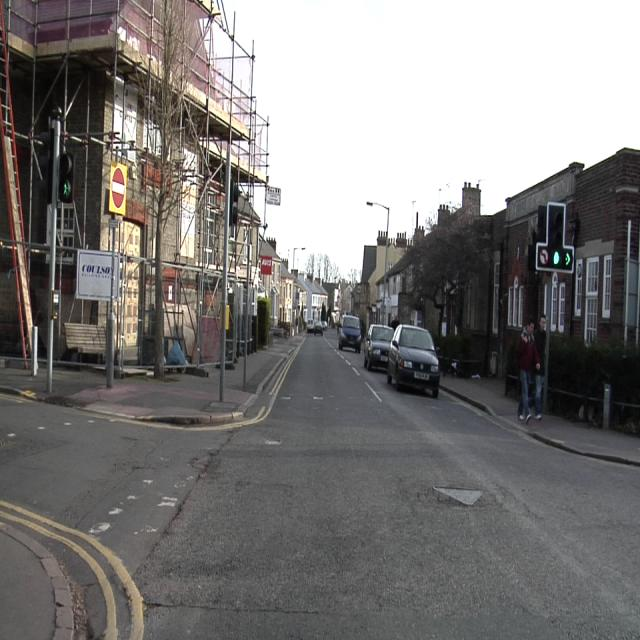Building: (0, 0, 329, 386), (352, 147, 638, 375)
Car: (371, 326, 439, 395), (364, 325, 392, 368), (339, 316, 361, 351), (309, 322, 324, 335)
Road: (0, 335, 635, 637)
person: (519, 322, 539, 420)
